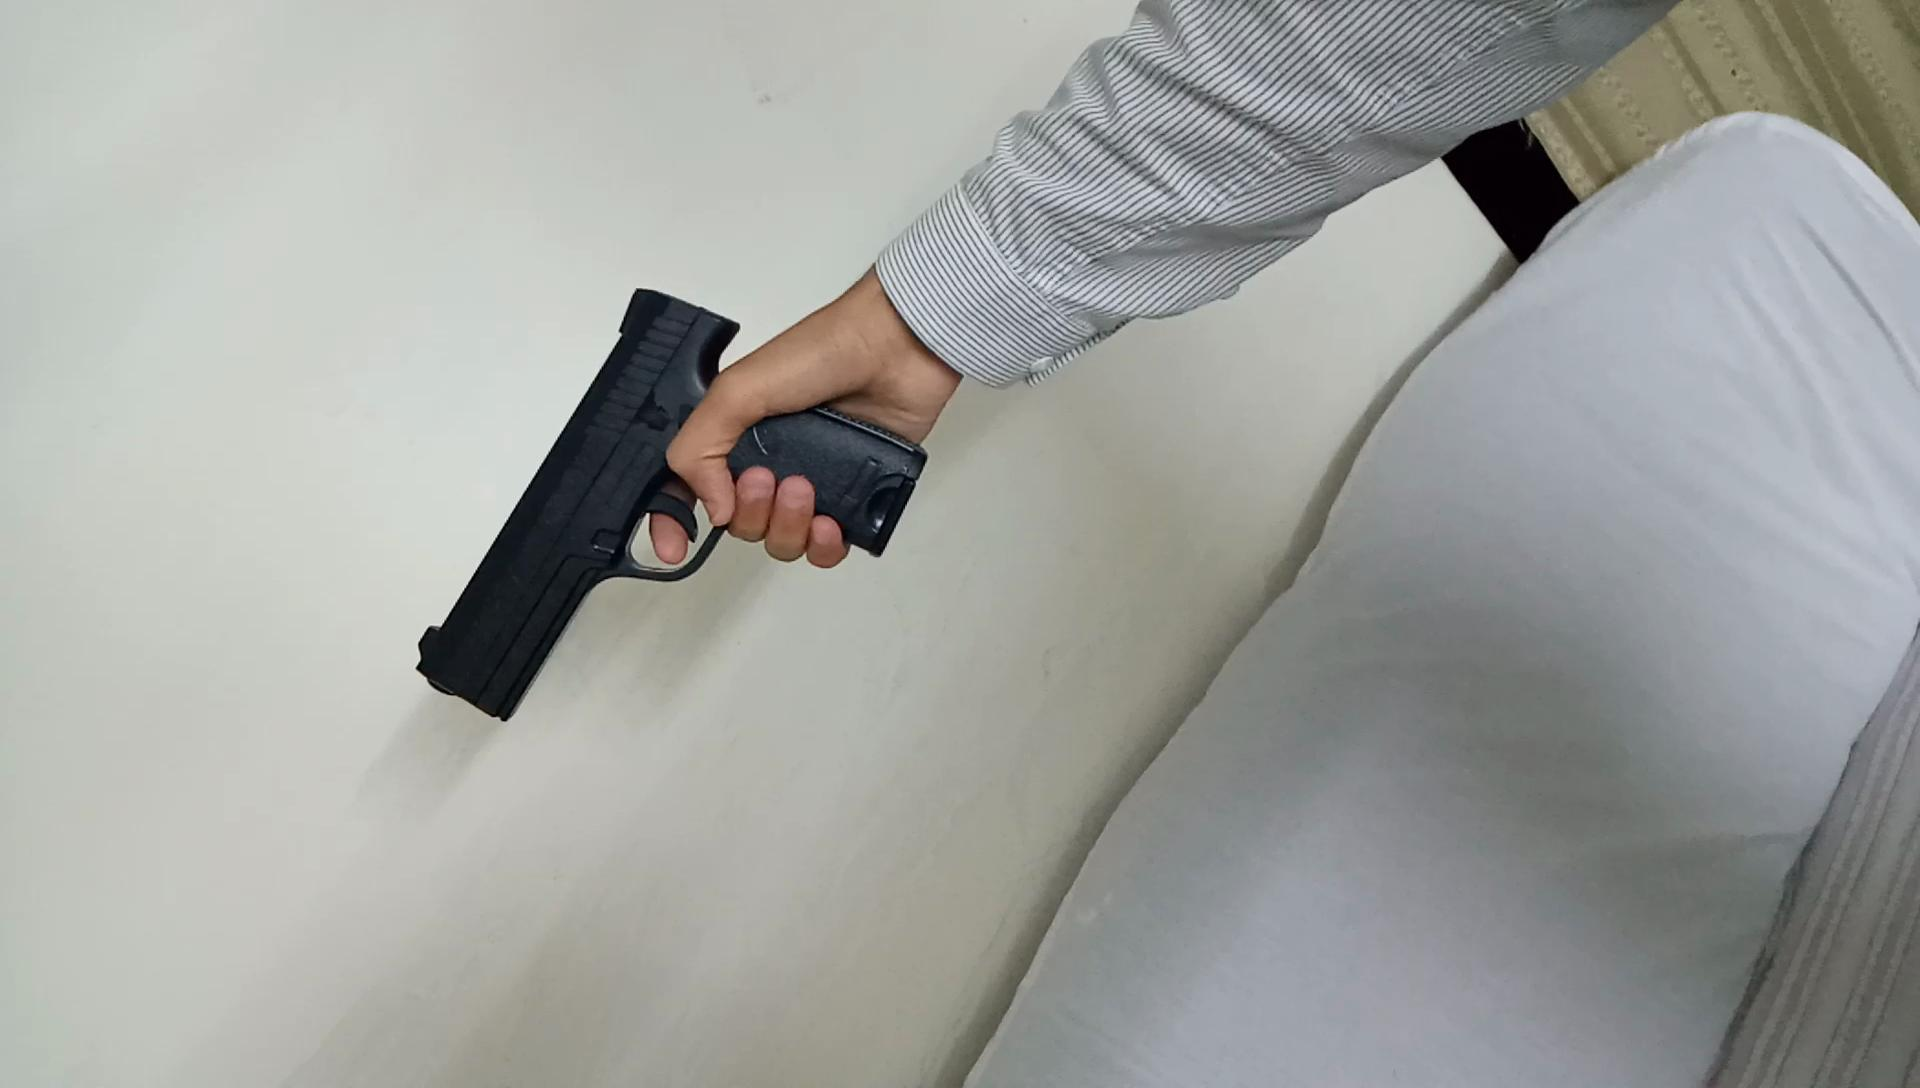weapon: (407, 280, 936, 731)
